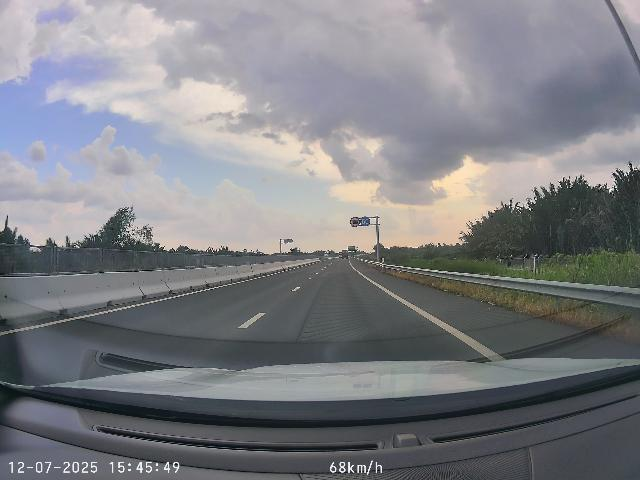127-toc-do-toi-da-100: (350, 217, 360, 227)
306-toc-do-toi-thieu-60: (360, 216, 370, 227)
